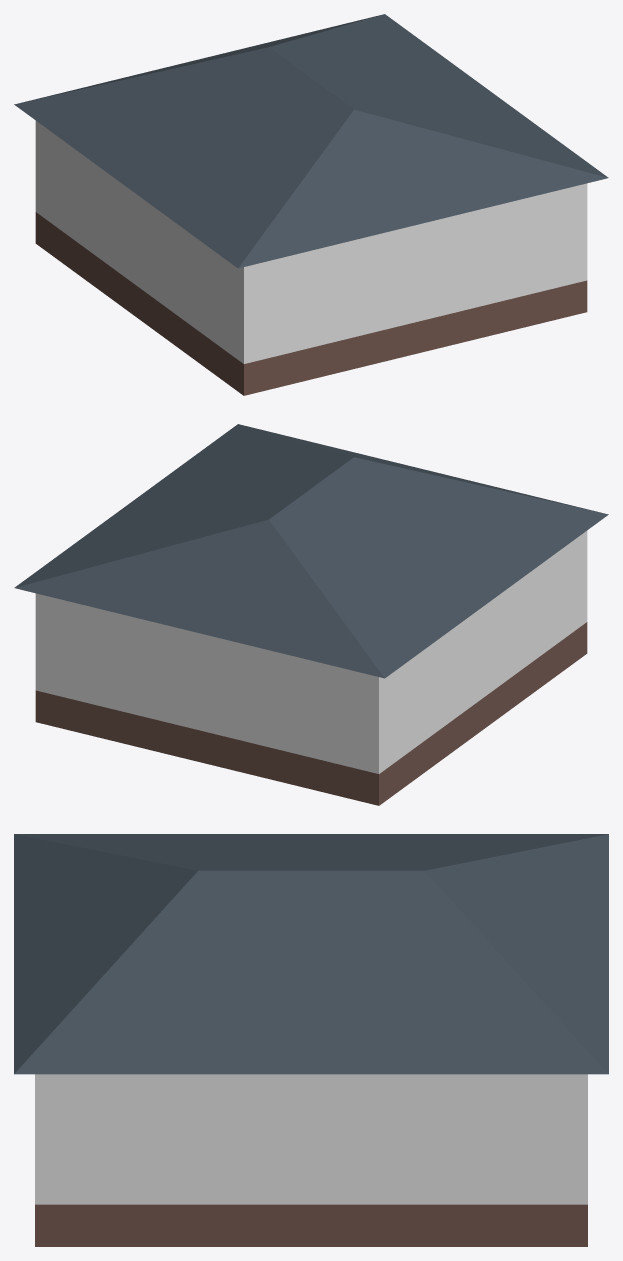
The model's file is far.fbx.
3 views of the same model, one above another, from view 1: azimuth 30°, elevation 25°; view 2: azimuth 150°, elevation 25°; view 3: azimuth 270°, elevation 25° (orthographic). The views are drawn at different scales.
Parts seen in each view (by area): view 1: a2000/600/far; view 2: a2000/600/far; view 3: a2000/600/far.
Boxes of the visible parts, x1=… form: a2000/600/far: x1=14, y1=14, x2=608, y2=395; a2000/600/far: x1=14, y1=424, x2=608, y2=805; a2000/600/far: x1=14, y1=834, x2=608, y2=1246.
Size of the model in its own units: 10.8 by 5.55 by 11.3.
